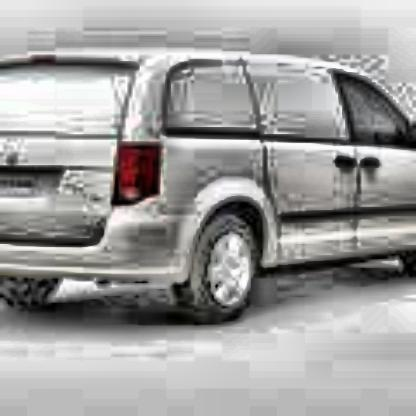Ram C-V Cargo Van Minivan 2012: (4, 56, 416, 326)
